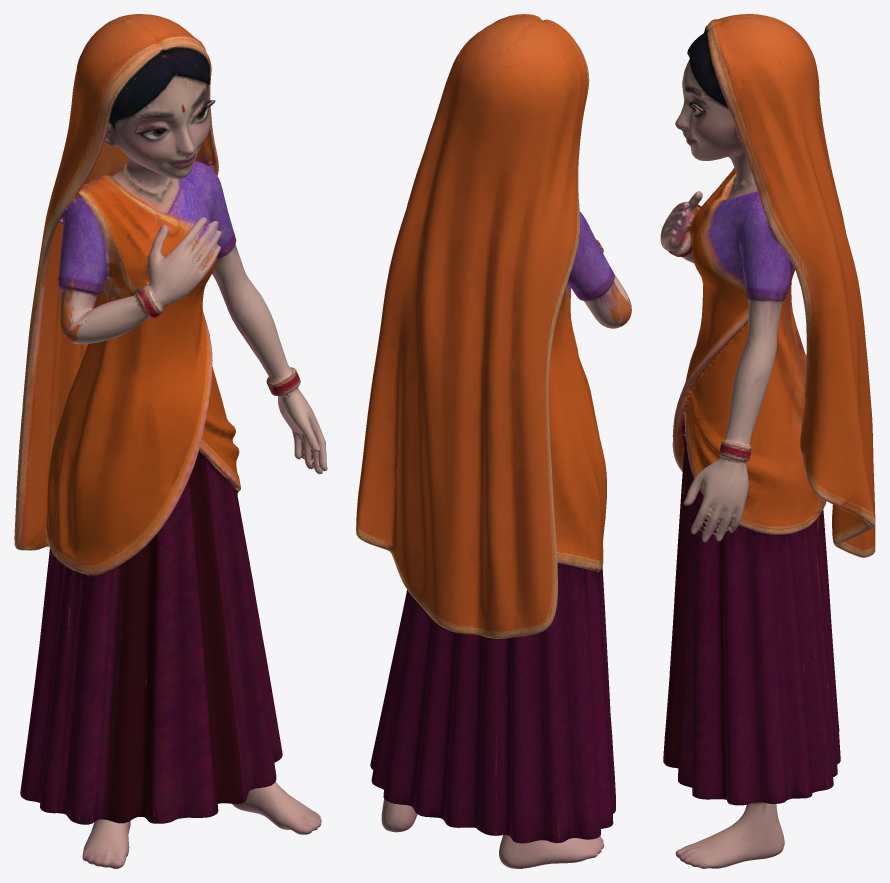
File: gavkari4_ladies.glb
3 renders of one model, left to right at view 1: azimuth 30°, elevation 25°; view 2: azimuth 150°, elevation 25°; view 3: azimuth 270°, elevation 25°, orthographic. The views are drawn at different scales.
Visible parts, largest first — view 1: Mesh_0; view 2: Mesh_0; view 3: Mesh_0.
Boxes of the visible parts, x1,y1,x2,y2 form: Mesh_0: [14, 14, 327, 868]; Mesh_0: [356, 14, 631, 868]; Mesh_0: [660, 14, 875, 868].
Bounding box in the file's own units: 0.6288 × 1.91 × 0.4753.
1 material, 1 textured.
